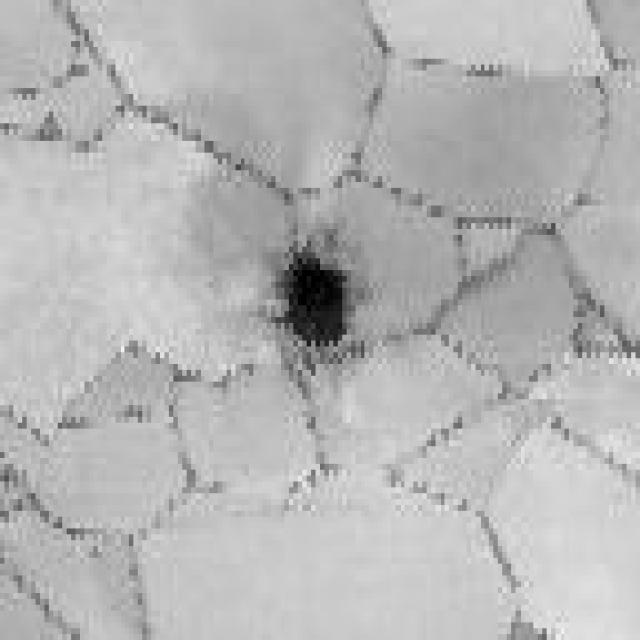good_void: (268, 227, 368, 364)
